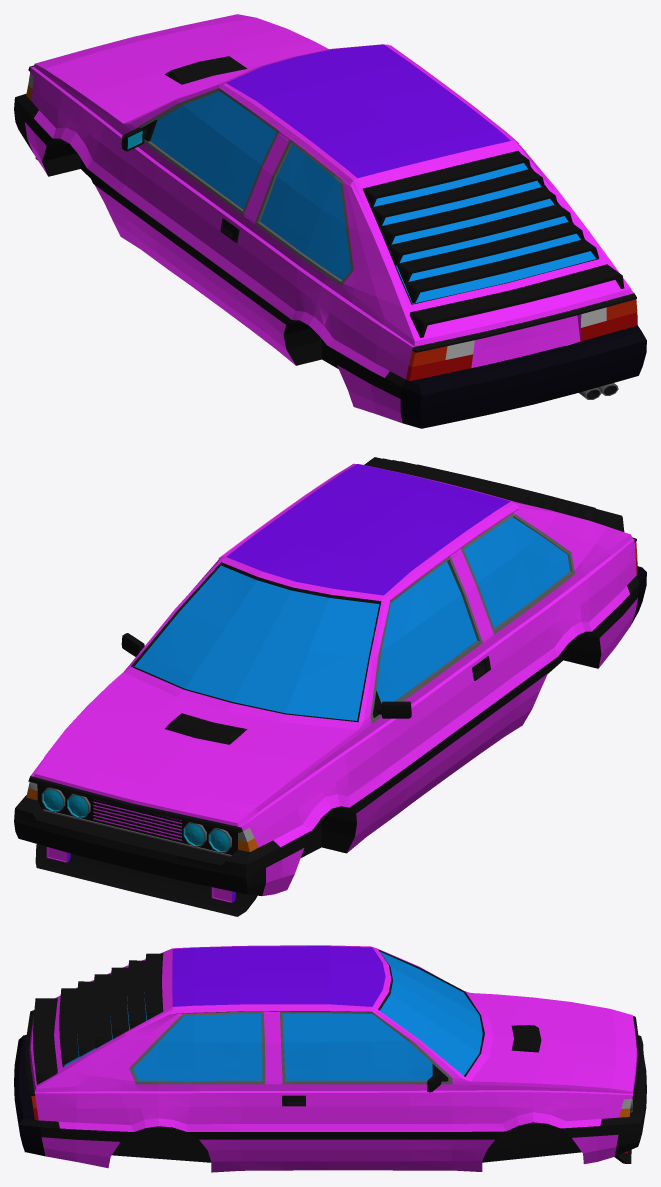
The model's file is polonez.FBX.
3 renders of one model, top to bottom at view 1: azimuth 30°, elevation 25°; view 2: azimuth 150°, elevation 25°; view 3: azimuth 270°, elevation 25°, orthographic. The views are drawn at different scales.
Visible parts, largest first — view 1: Plane005, Object006, Object005, Object004, Object003, Object002, Object001; view 2: Plane005, Object001; view 3: Plane005, Object006, Object004, Object005, Object003, Object002, Object001.
Boxes of the visible parts, box(x1,y1,x2,y2) form: Plane005: box(14, 14, 646, 428); Object006: box(405, 239, 598, 303); Object005: box(397, 221, 584, 283); Object004: box(388, 204, 572, 265); Object003: box(380, 186, 557, 246); Object002: box(371, 168, 544, 227); Object001: box(363, 151, 530, 207); Plane005: box(14, 463, 646, 916); Object001: box(364, 457, 530, 505); Plane005: box(14, 945, 646, 1172); Object006: box(59, 988, 78, 1065); Object004: box(92, 974, 111, 1048); Object005: box(76, 981, 95, 1056); Object003: box(109, 967, 128, 1038); Object002: box(127, 960, 146, 1029); Object001: box(144, 953, 162, 1020).
Bounding box in the file's own units: 3.1 × 2.07 × 7.64.
